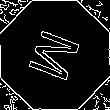M_E: (23, 25, 87, 85)
